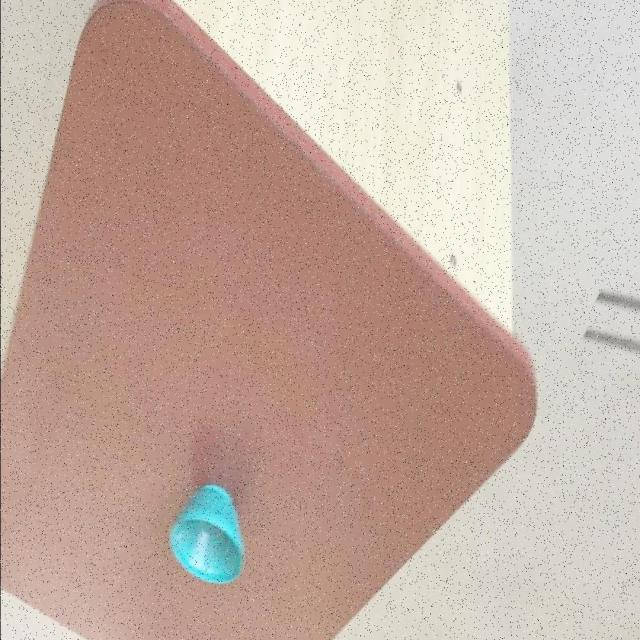Bowl: (2, 0, 540, 640), (168, 484, 246, 587)
